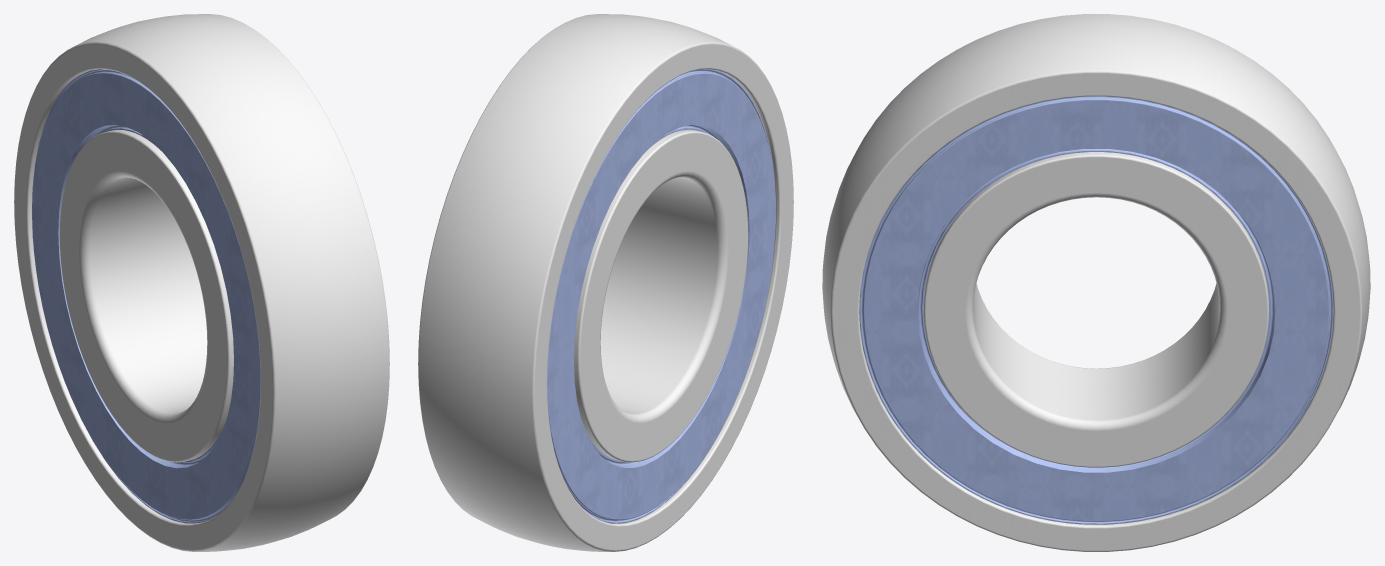
3 renders of one model, left to right at view 1: azimuth 30°, elevation 25°; view 2: azimuth 150°, elevation 25°; view 3: azimuth 270°, elevation 25°, orthographic.
Visible parts, largest first — view 1: texture-2, texture, texture-5; view 2: texture-2, texture, texture-5; view 3: texture-2, texture-5, texture.
Boxes of the visible parts, left/top/right/bottom form: texture-2: left=14, top=14, right=389, bottom=551; texture: left=59, top=130, right=233, bottom=462; texture-5: left=32, top=69, right=260, bottom=523; texture-2: left=418, top=14, right=793, bottom=551; texture: left=574, top=129, right=748, bottom=462; texture-5: left=547, top=69, right=775, bottom=523; texture-2: left=822, top=14, right=1370, bottom=551; texture-5: left=859, top=96, right=1333, bottom=524; texture: left=923, top=152, right=1269, bottom=467.
Bounding box in the file's own units: 0.025 × 0.1 × 0.1.
Materials: 7 (5 with a texture image).
